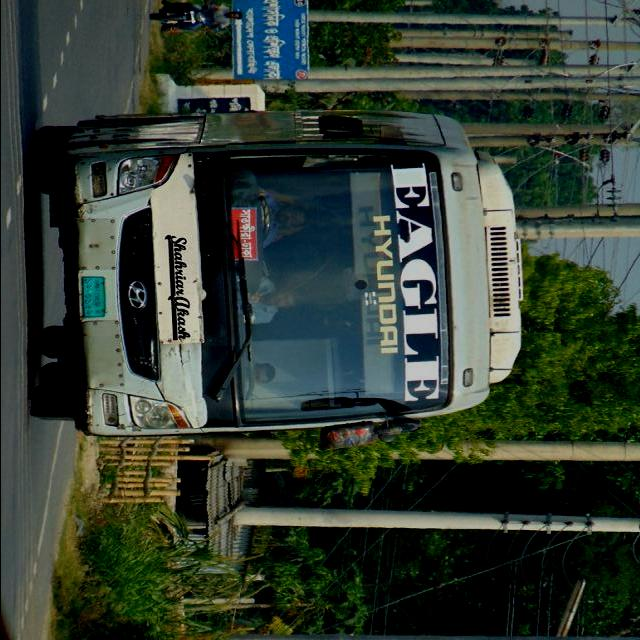bus: (25, 108, 525, 450)
